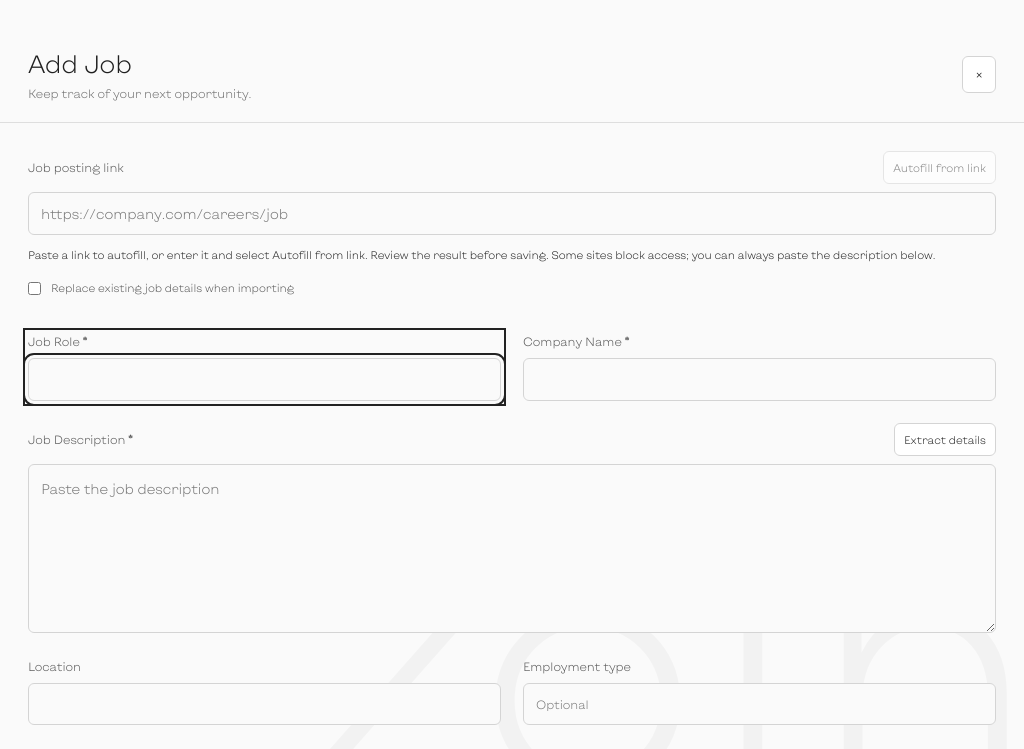
Scenario: link import failure preserves editable fields and supports retry
Type "Manual title" into the field labelled "Job Role *" at (264, 380), box left=28, top=358, right=501, bottom=401
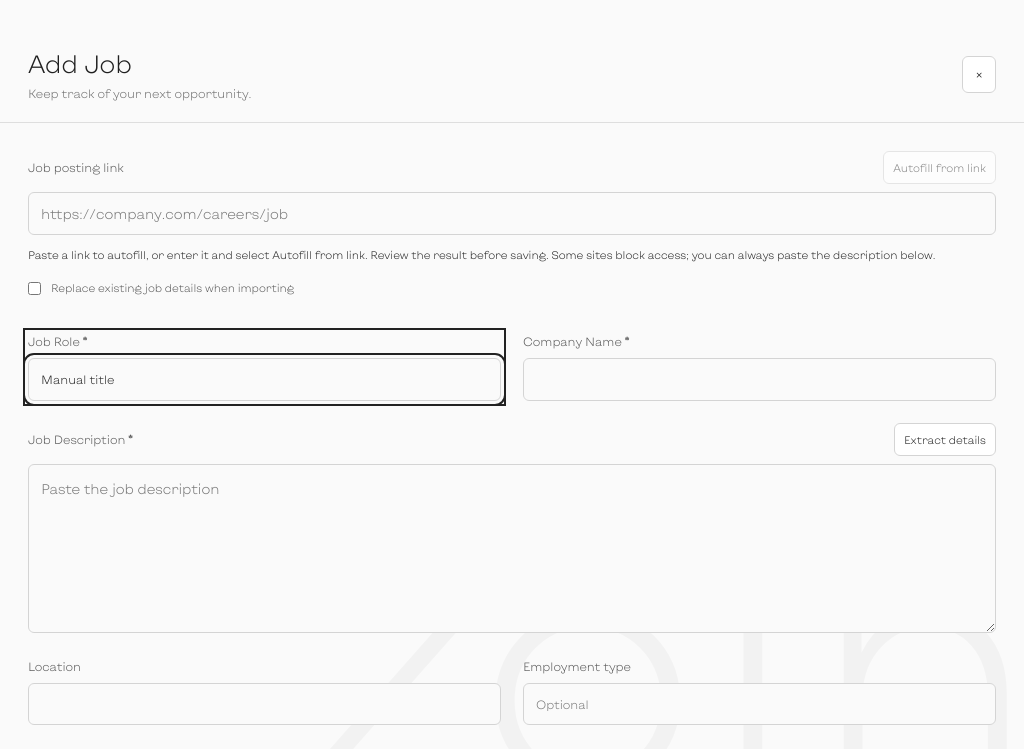
Type "https://example.com/job" into the field labelled "Job posting link" at (512, 214), box left=28, top=192, right=996, bottom=235
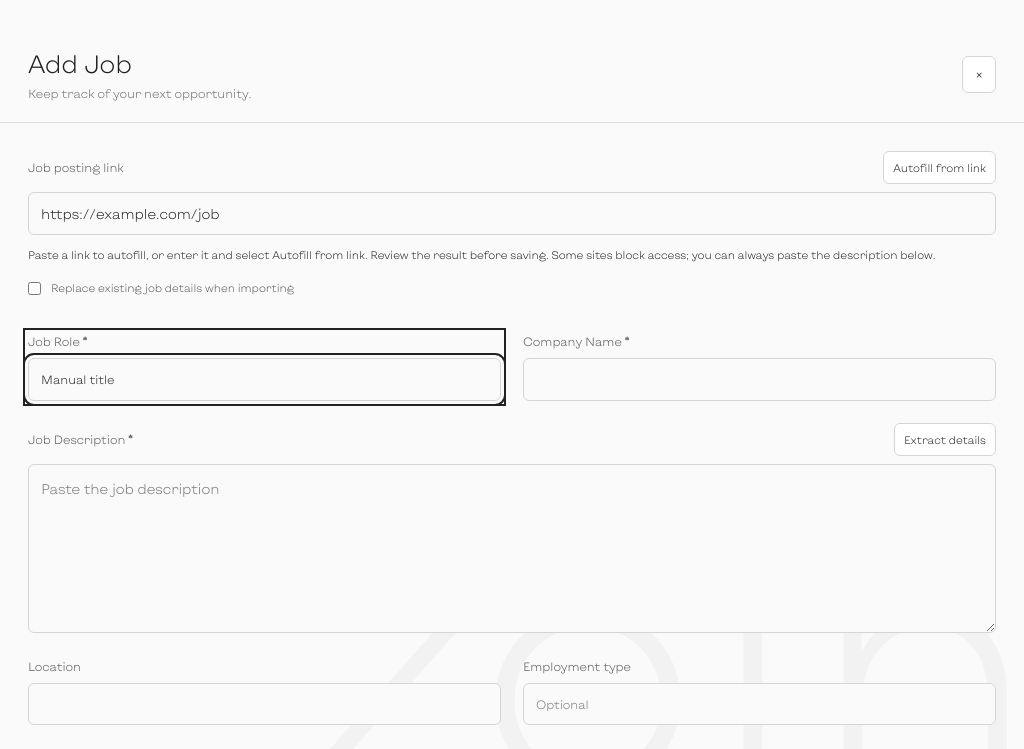
Click the button "Autofill from link" at (940, 168), box left=883, top=151, right=996, bottom=184
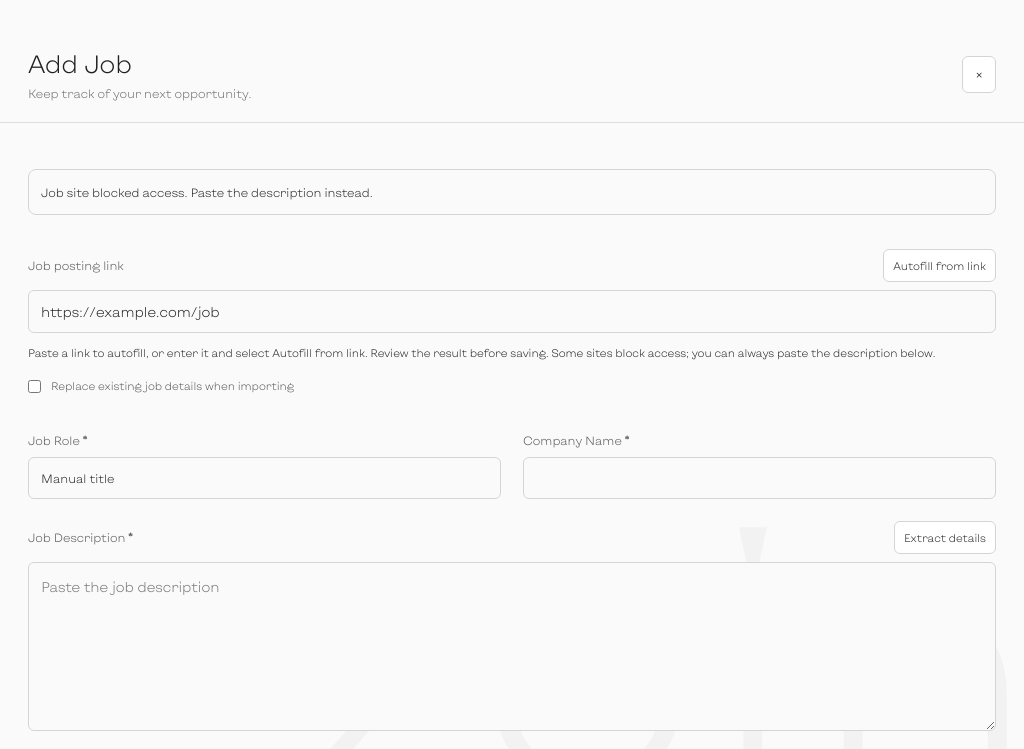
Result: the message "Job site blocked access. Paste the description instead." is shown at left=28, top=169, right=996, bottom=215
Click the button "Autofill from link" at (940, 266), box left=883, top=249, right=996, bottom=282
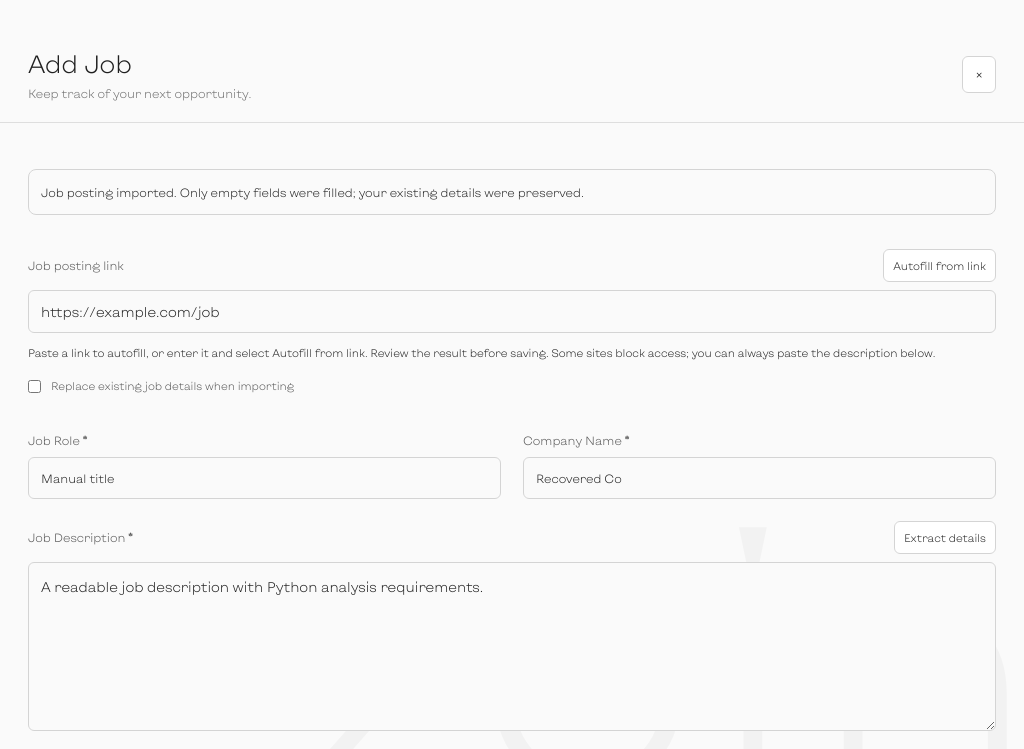
Result: the text "Only empty fields were filled" is shown at left=41, top=185, right=584, bottom=199
Result: the field labelled "Company Name *" holds "Recovered Co" at left=523, top=457, right=996, bottom=499
